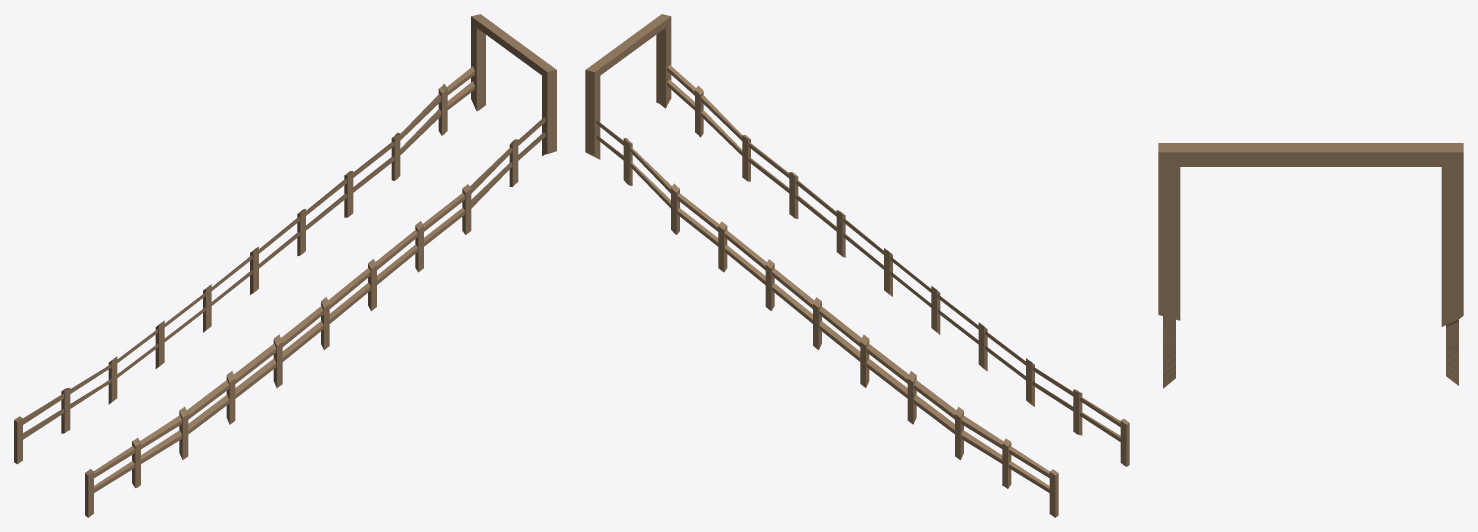
The model's file is phase3d.glb.
3 views of the same model, side by side, from view 1: azimuth 30°, elevation 25°; view 2: azimuth 150°, elevation 25°; view 3: azimuth 270°, elevation 25° (orthographic). The views are drawn at different scales.
Visible parts, largest first — view 1: dc-gate.lintel, dc-gate.post.south, dc-gate.post.north; view 2: dc-gate.lintel, dc-gate.post.north, dc-gate.post.south; view 3: dc-gate.lintel, dc-gate.post.north, dc-gate.post.south.
Part boxes in pixels (<box>): dc-gate.lintel: <box>471,14,556,78</box>; dc-gate.post.south: <box>542,69,556,155</box>; dc-gate.post.north: <box>471,17,485,111</box>; dc-gate.lintel: <box>585,14,671,77</box>; dc-gate.post.north: <box>585,71,600,159</box>; dc-gate.post.south: <box>656,18,671,108</box>; dc-gate.lintel: <box>1158,143,1463,166</box>; dc-gate.post.north: <box>1441,154,1463,326</box>; dc-gate.post.south: <box>1158,154,1180,320</box>.
Bounding box in the file's own units: 19.82 × 13.57 × 5.6.
